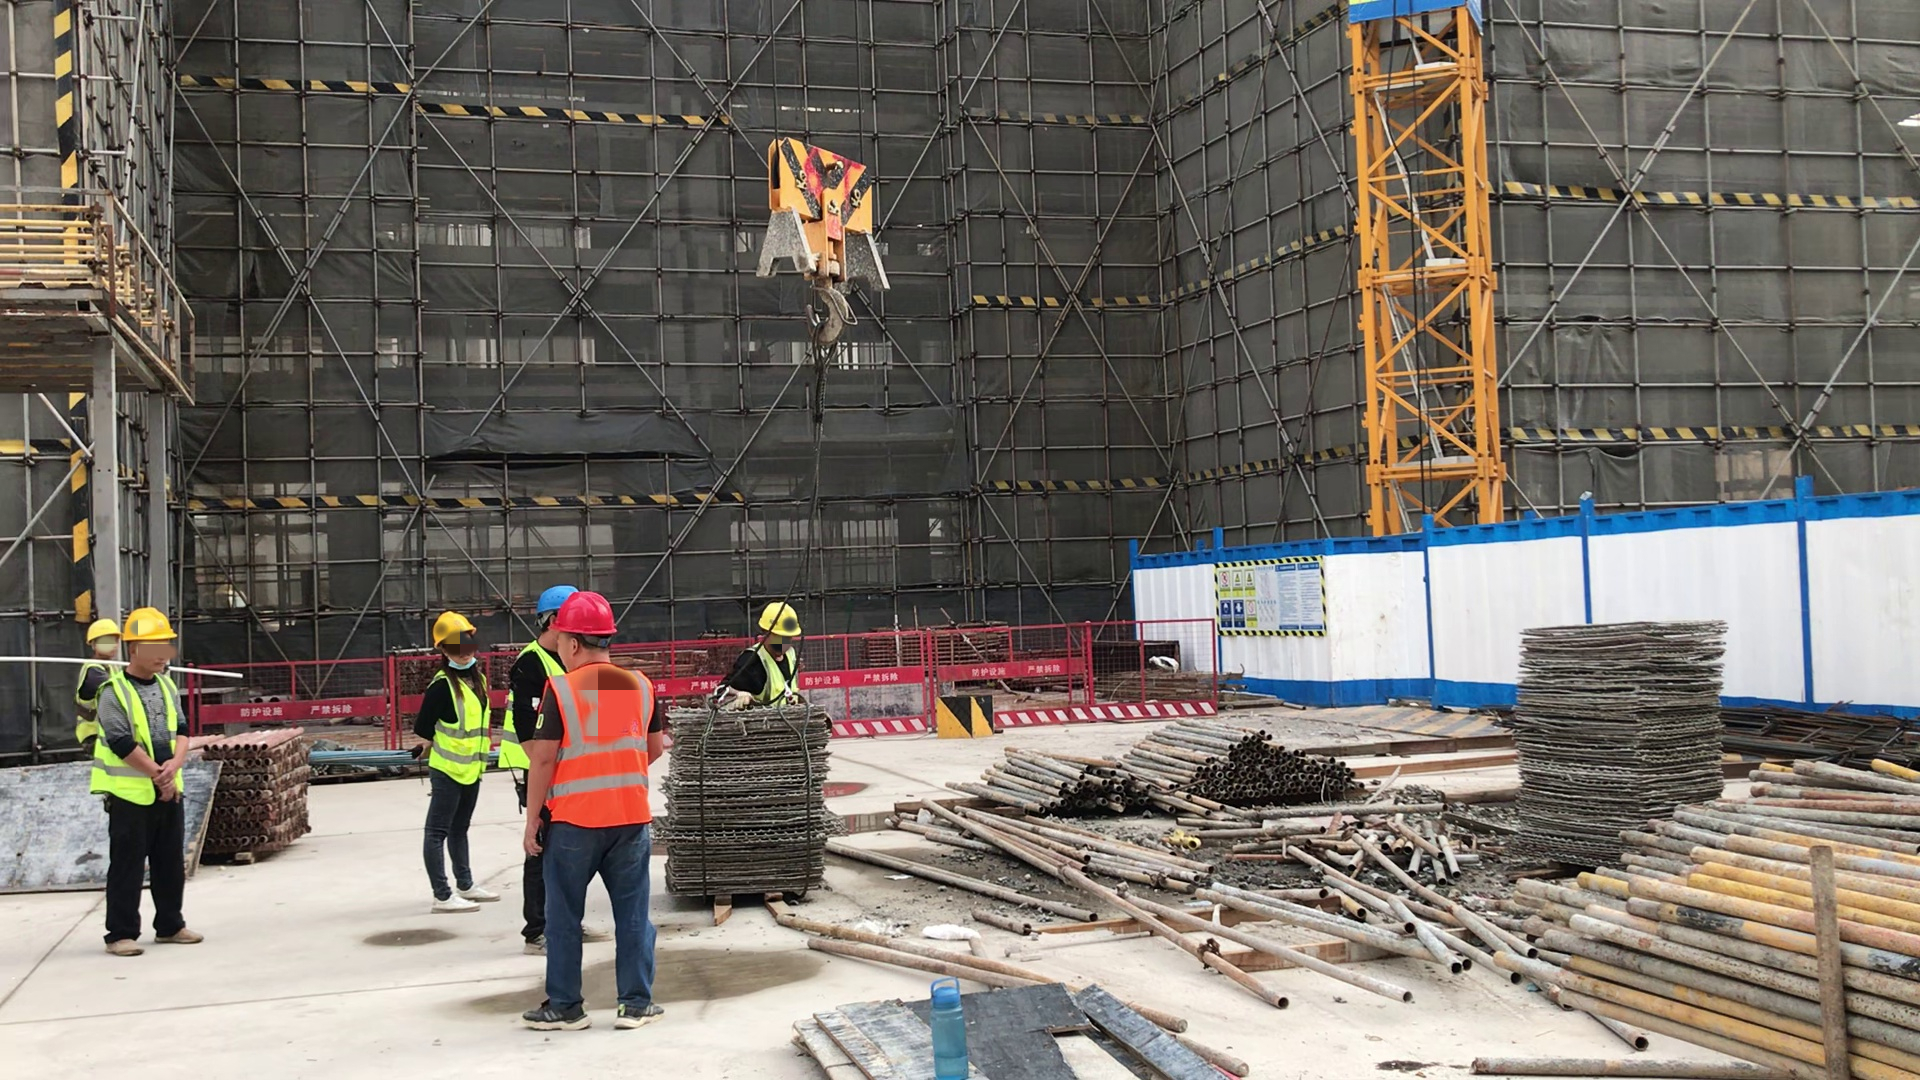fence: (1002, 618, 1220, 721), (824, 626, 933, 737), (249, 655, 405, 729)
helmet: (551, 595, 620, 637), (121, 609, 178, 644), (755, 604, 803, 638), (432, 615, 479, 645), (530, 583, 575, 612), (86, 621, 118, 645)
hook: (754, 130, 893, 353)
person: (522, 590, 671, 1008), (95, 607, 208, 961), (414, 612, 502, 920), (720, 604, 805, 707), (71, 618, 117, 750), (503, 582, 563, 678)
scaffold: (1492, 754, 1920, 1078), (1156, 720, 1367, 802), (955, 739, 1154, 824), (211, 726, 317, 856)
slogan: (1215, 557, 1324, 630)
vest: (545, 668, 654, 829), (92, 671, 187, 808), (425, 669, 495, 791), (746, 643, 801, 709), (73, 661, 100, 744)
